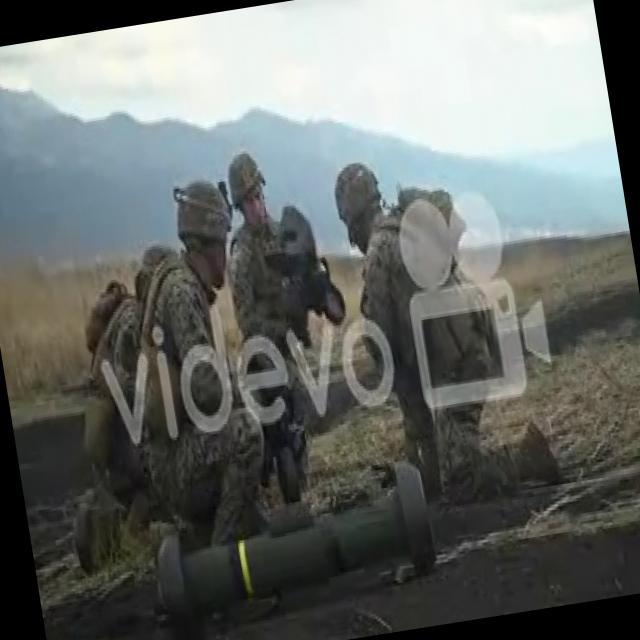rocket: (142, 462, 441, 640)
